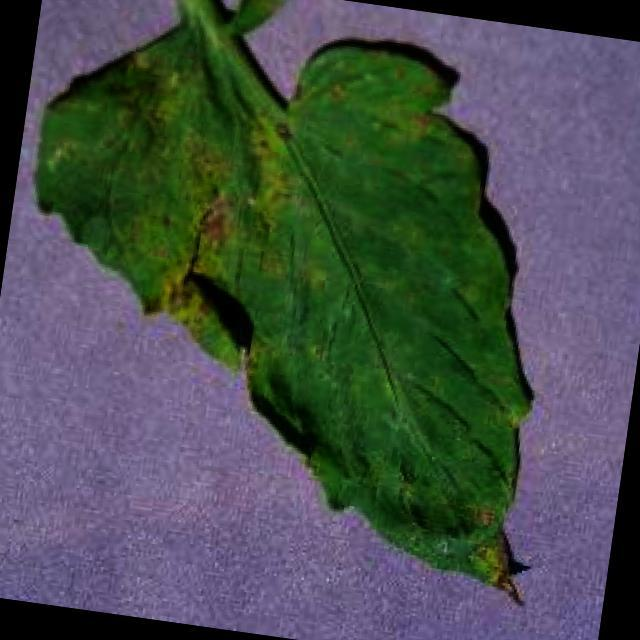Tomato Septoria spot leaf: (0, 12, 590, 607)
